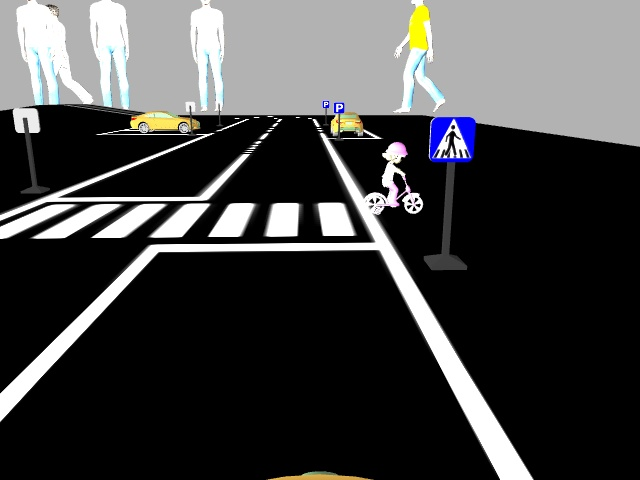Crosswalk: (429, 115, 477, 162)
Parking: (333, 102, 346, 117)
Pedestrian: (357, 139, 426, 216)
